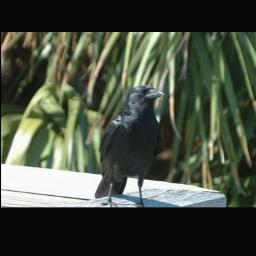Crow: (95, 84, 164, 207)
